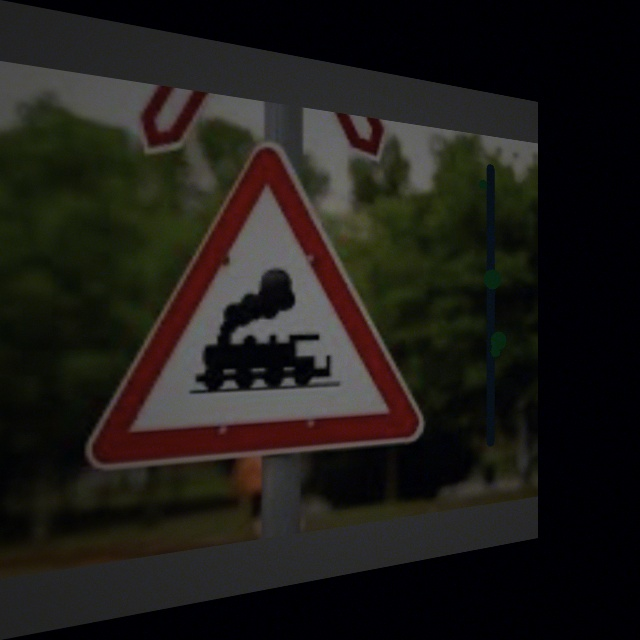Unguarded_Level_Crossing: (69, 132, 438, 481)
